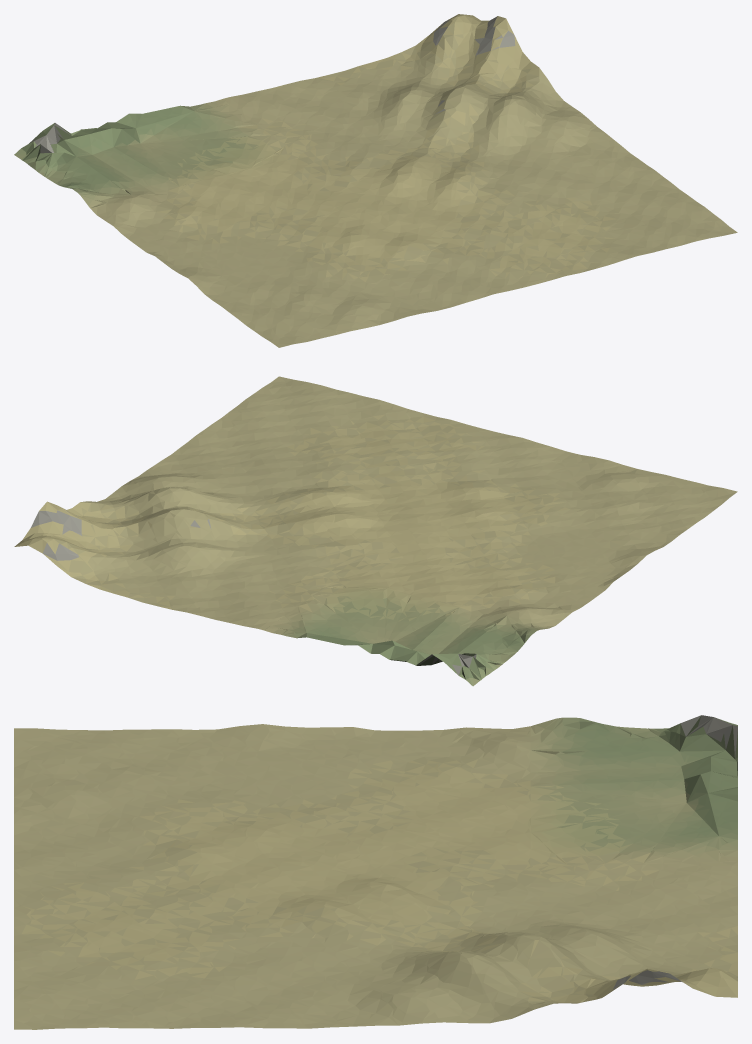
File: Ground_0_0.glb
The picture shows the model from 3 angles, top to bottom: view 1: azimuth 30°, elevation 25°; view 2: azimuth 150°, elevation 25°; view 3: azimuth 270°, elevation 25°; orthographic projection. The views are drawn at different scales.
Visible parts, largest first — view 1: Ground_0_0; view 2: Ground_0_0; view 3: Ground_0_0.
Part boxes in pixels (x1,y1,x2,y2): Ground_0_0: (14, 14, 737, 347); Ground_0_0: (14, 376, 737, 686); Ground_0_0: (14, 715, 737, 1029).
Size of the model in its own units: 768 by 80.12 by 768.
